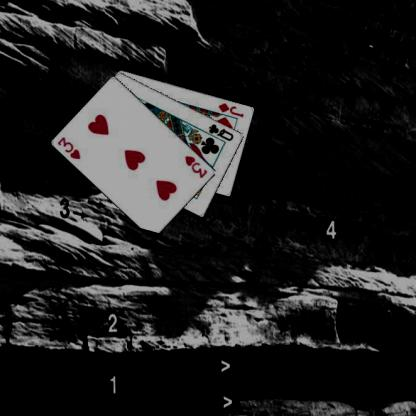3H: (182, 152, 209, 180), (55, 134, 82, 161)
JD: (216, 100, 245, 119)
QC: (206, 121, 235, 142)
